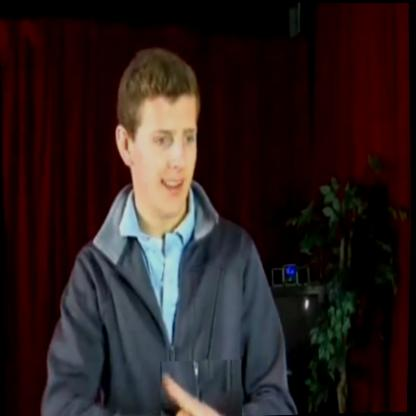NiceToMeetYou: (161, 358, 245, 416)
